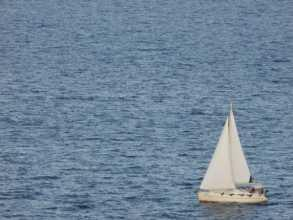fanchuan: (197, 101, 270, 205)
